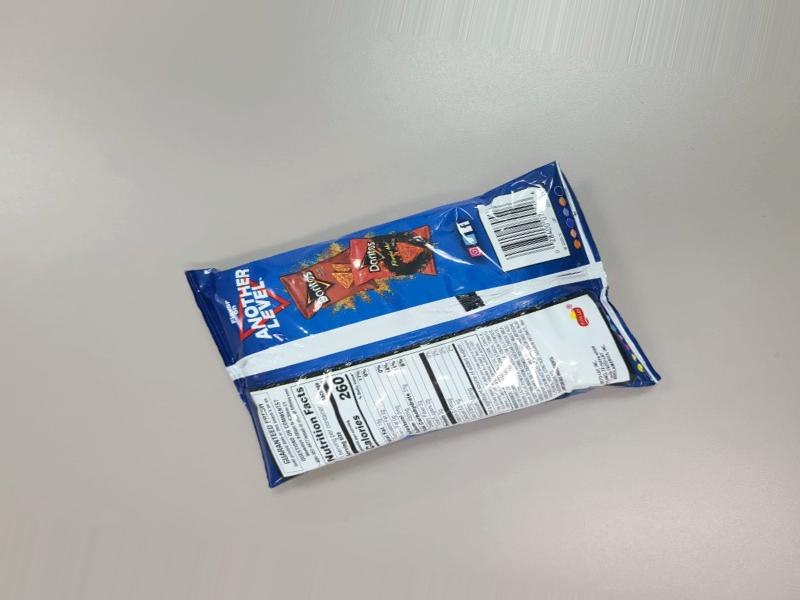doritos: (178, 139, 642, 501)
